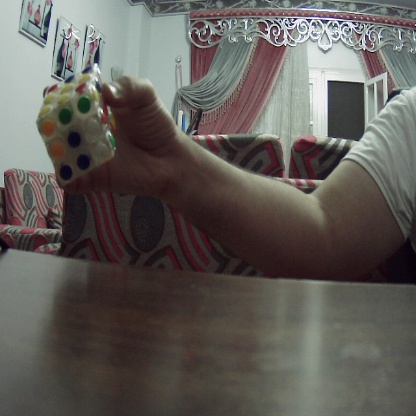Rubix Cube: (41, 70, 121, 184)
